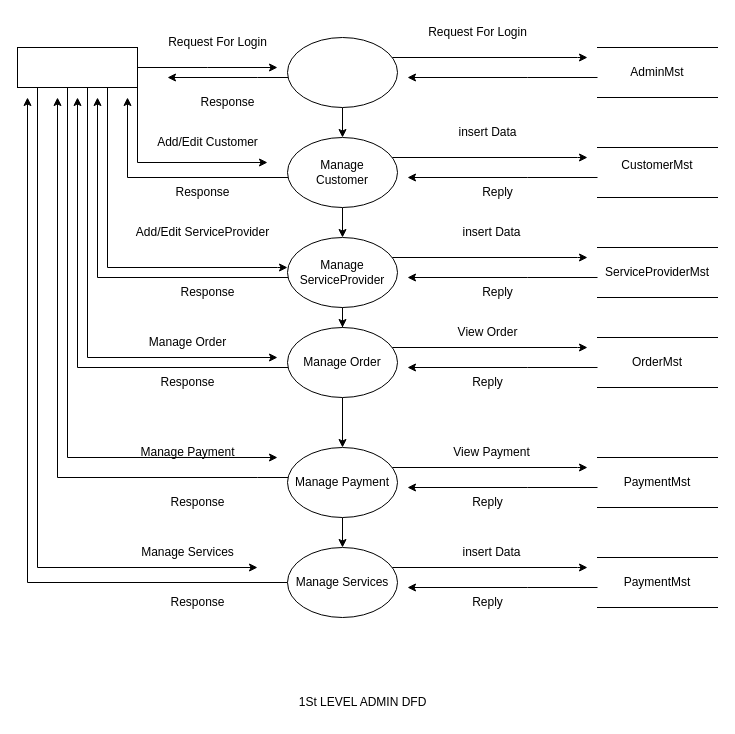
Image size: 735x734. Some labels were removed from this diagram. The shapes that lost their labels are listed below. From the top down, each one's centre as x and y in pixels, then its label:
point 77,67: Admin
point 342,72: Login
